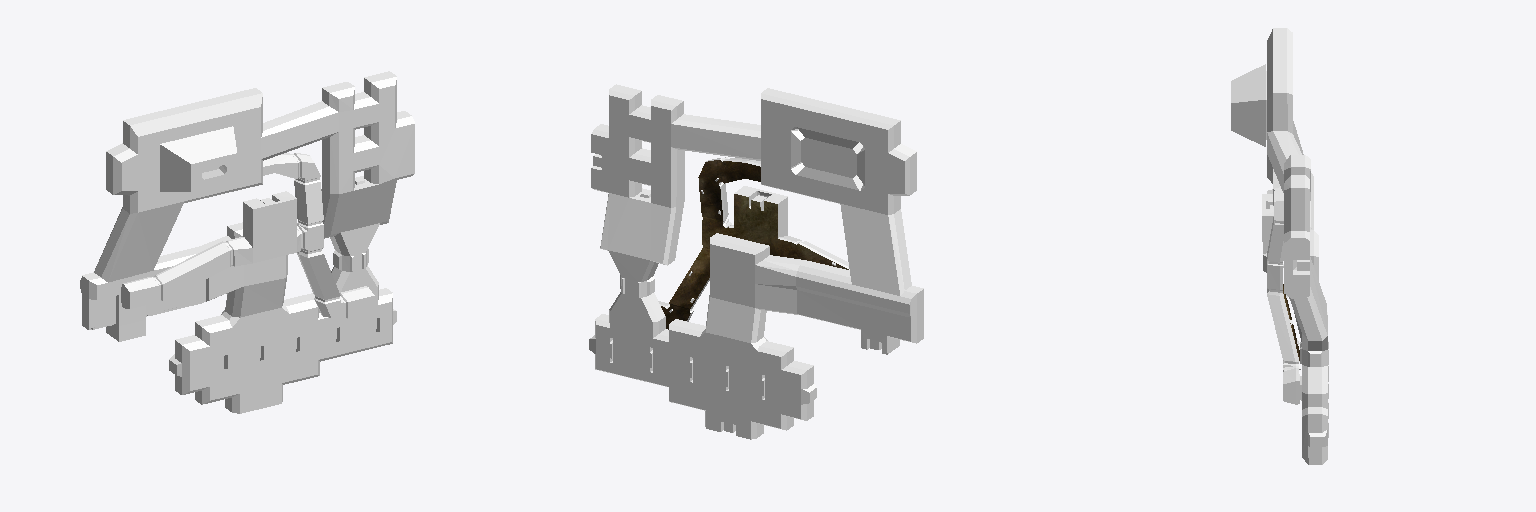
The picture shows the model from 3 angles: view 1: azimuth 30°, elevation 25°; view 2: azimuth 150°, elevation 25°; view 3: azimuth 270°, elevation 25°; orthographic projection.
Parts seen in each view (by area): view 1: ratrace; view 2: ratrace; view 3: ratrace.
Part boxes in pixels (left/top/right/bottom): ratrace: left=80, top=71, right=414, bottom=413; ratrace: left=589, top=84, right=923, bottom=439; ratrace: left=1231, top=28, right=1328, bottom=464.
Bounding box in the file's own units: 3235 × 3150 × 855.
Materials: 19 (1 with a texture image).